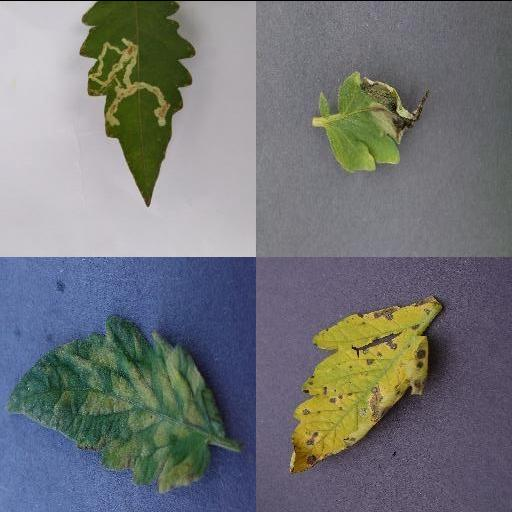Late Blight: (318, 68, 430, 172)
Leaf Miner: (77, 0, 197, 209)
Leaf Mold: (5, 315, 225, 491)
Septoria: (286, 294, 446, 474)
